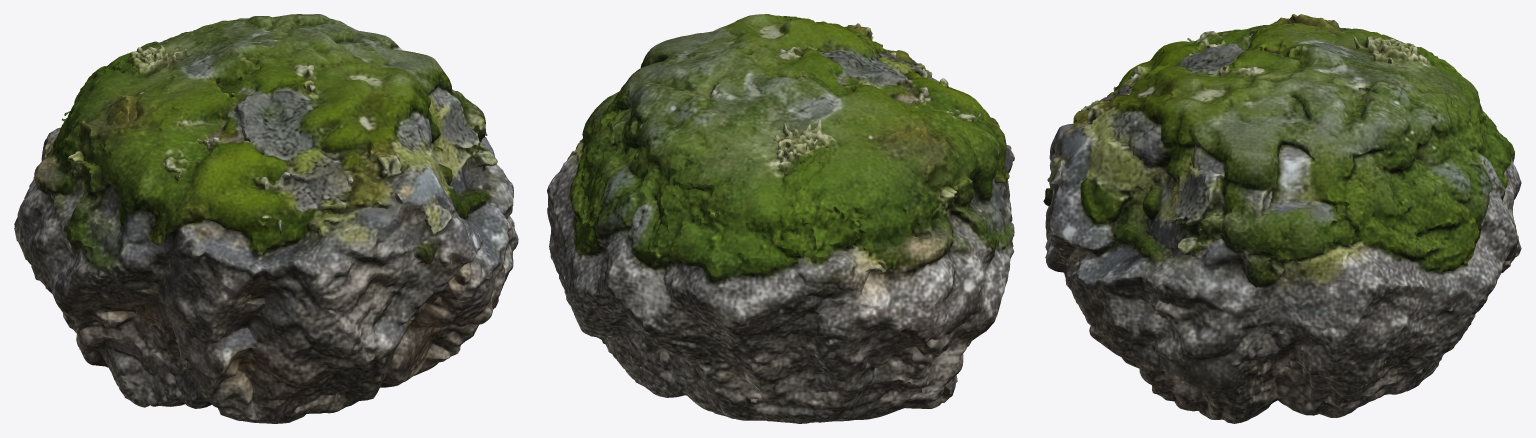
Rendered from mossrock-hero-v16.glb.
The picture shows the model from 3 angles, left to right: view 1: azimuth 30°, elevation 25°; view 2: azimuth 150°, elevation 25°; view 3: azimuth 270°, elevation 25°; orthographic projection.
Visible parts, largest first — view 1: geometry_0; view 2: geometry_0; view 3: geometry_0.
Boxes of the visible parts, <box> form: geometry_0: <box>14,14,518,423</box>; geometry_0: <box>547,14,1014,423</box>; geometry_0: <box>1043,14,1521,423</box>.
Size of the model in its own units: 0.32 by 0.2308 by 0.3185.
Materials: 1 (1 with a texture image).
